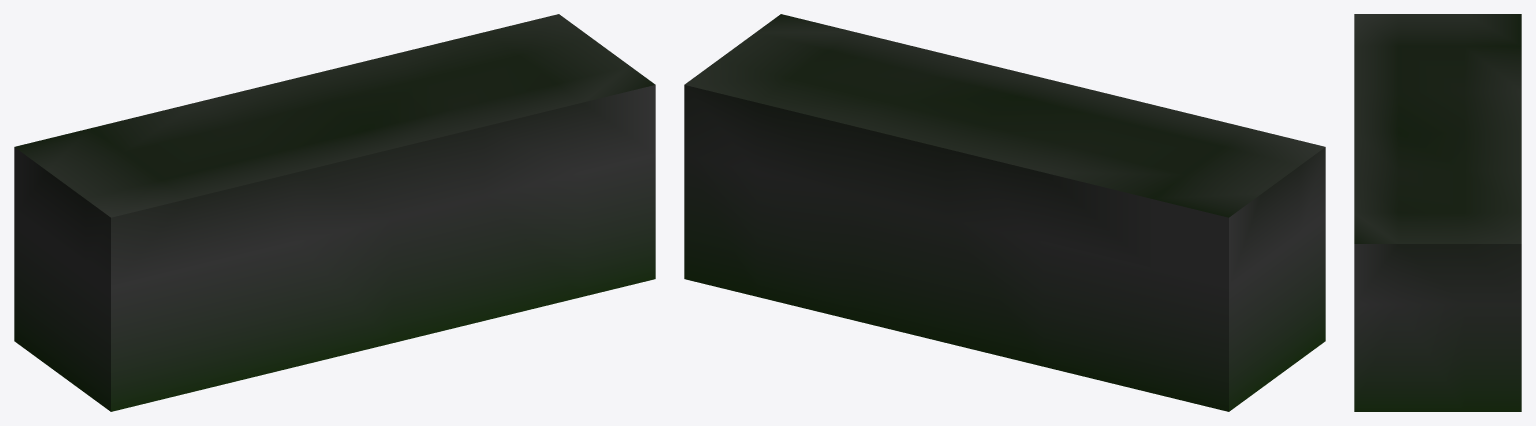
File: lib-laby-block-block-a.fbx
3 views of the same model, side by side, from view 1: azimuth 30°, elevation 25°; view 2: azimuth 150°, elevation 25°; view 3: azimuth 270°, elevation 25° (orthographic). The views are drawn at different scales.
Parts seen in each view (by area): view 1: pCube2; view 2: pCube2; view 3: pCube2.
Part boxes in pixels (box(x1,y1,x2,y2)): pCube2: box(14, 14, 655, 411); pCube2: box(684, 14, 1325, 411); pCube2: box(1354, 14, 1521, 411).
Size of the model in its own units: 13 by 4.43 by 4.
